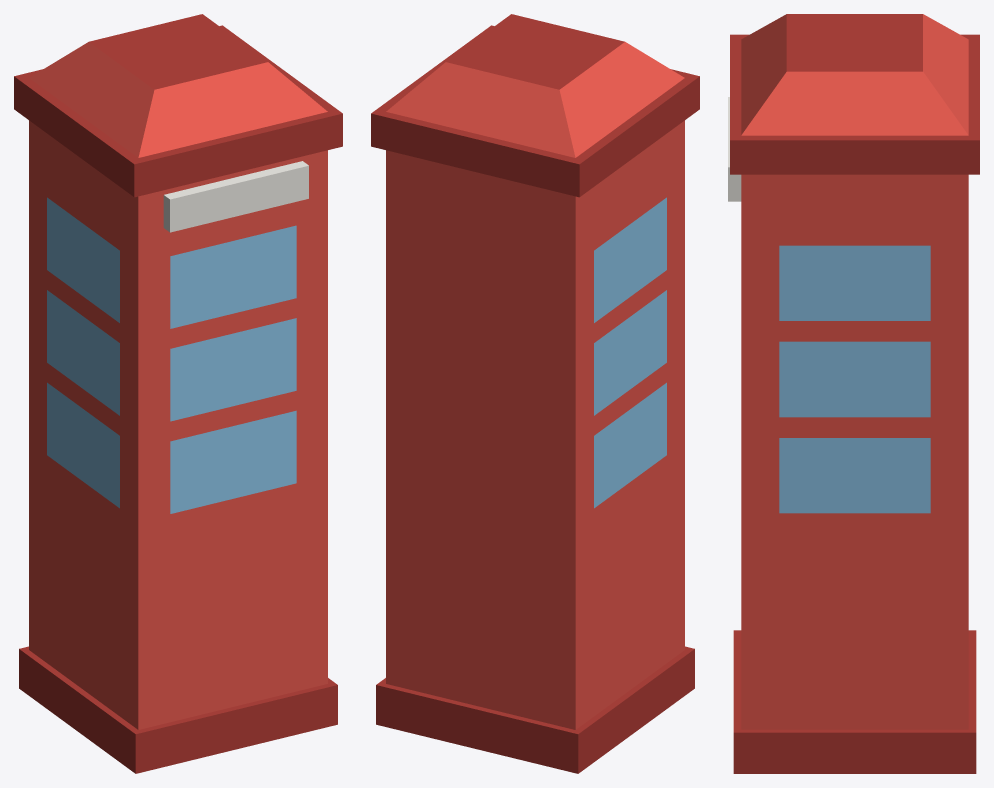
Rendered from P_PhoneBooth.fbx.
3 renders of one model, left to right at view 1: azimuth 30°, elevation 25°; view 2: azimuth 150°, elevation 25°; view 3: azimuth 270°, elevation 25°, orthographic. The views are drawn at different scales.
Parts seen in each view (by area): view 1: P_PhoneBooth; view 2: P_PhoneBooth; view 3: P_PhoneBooth.
Boxes of the visible parts, left/top/right/bottom form: P_PhoneBooth: left=14, top=14, right=342, bottom=773; P_PhoneBooth: left=371, top=14, right=699, bottom=773; P_PhoneBooth: left=728, top=14, right=979, bottom=773.
Bounding box in the file's own units: 0.66 × 1.98 × 0.665.
